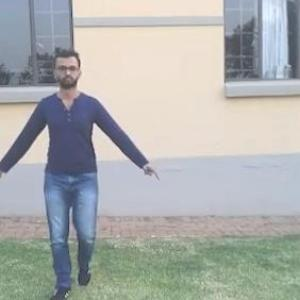land: (0, 65, 143, 264)
